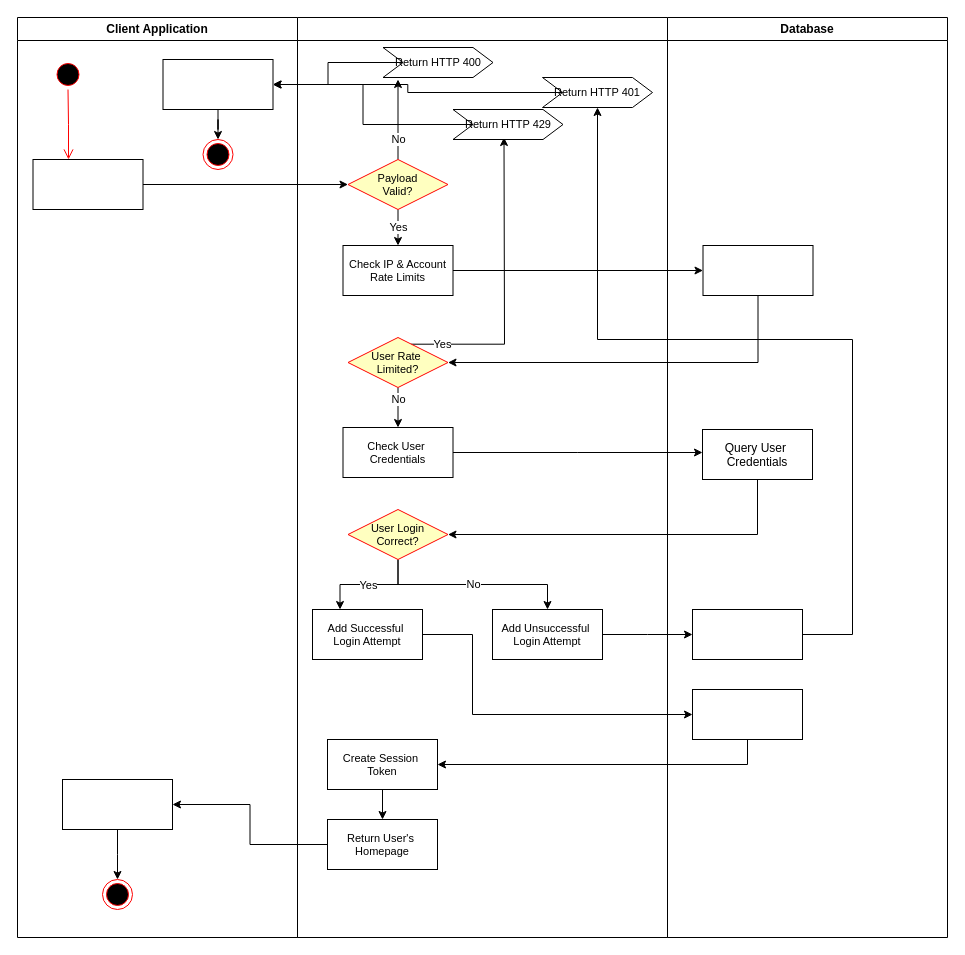
Image size: 965x955. Some labels were removed from this diagram. The centre of each missing label's shape, as x and y in pixels:
Backend: (482,477)
Display HTTP Error: (217,84)
Display User Homepage: (117,804)
POST username + password: (87,184)
Query Failed Login Attempt: (757,270)
Write Successful Login to Database: (747,714)
Write Unsuccessful Login to Database: (747,634)
